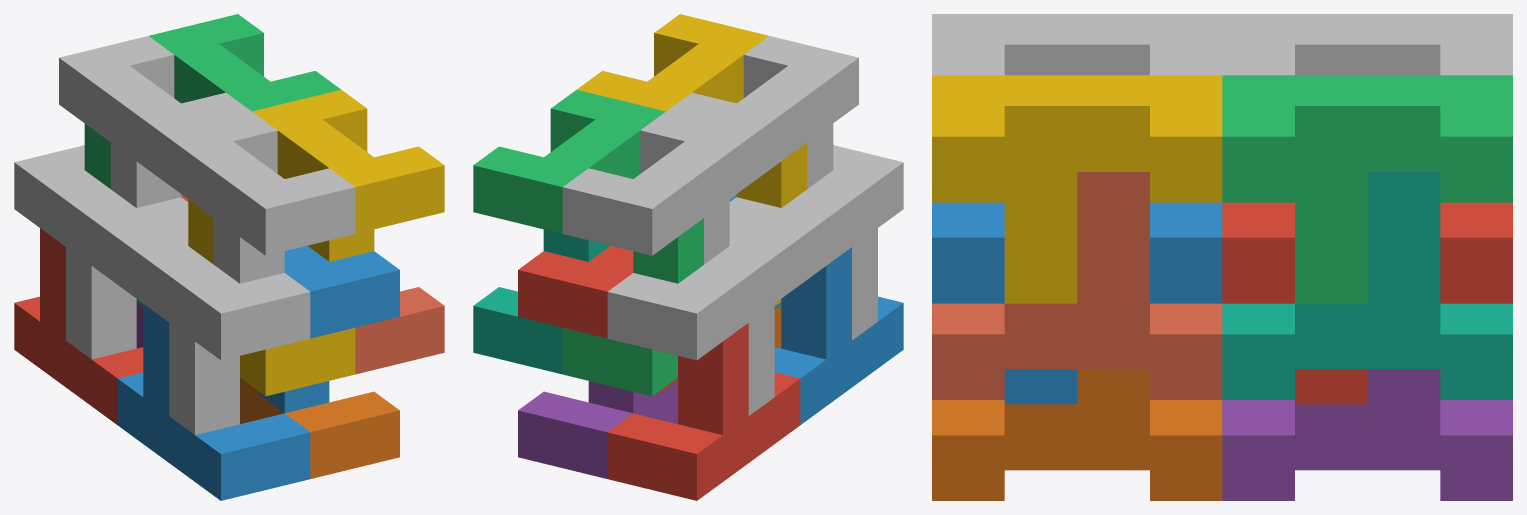
File: tiling.obj
3 views of the same model, side by side, from view 1: azimuth 30°, elevation 25°; view 2: azimuth 150°, elevation 25°; view 3: azimuth 270°, elevation 25° (orthographic). The views are drawn at different scales.
Visible parts, largest first — view 1: copy_2_domain_2, copy_2_domain_4, copy_2_domain_1, copy_2_domain_3, copy_2_domain_8, copy_1_domain_2, copy_2_domain_7, copy_1_domain_1, copy_2_domain_6, copy_1_domain_6, copy_1_domain_4, copy_1_domain_8 (+1 smaller); view 2: copy_2_domain_3, copy_2_domain_1, copy_1_domain_1, copy_2_domain_4, copy_2_domain_7, copy_2_domain_2, copy_1_domain_2, copy_2_domain_8, copy_1_domain_5, copy_1_domain_3, copy_2_domain_5, copy_1_domain_7 (+1 smaller); view 3: copy_2_domain_8, copy_2_domain_7, copy_1_domain_7, copy_1_domain_8, copy_1_domain_5, copy_1_domain_6, copy_2_domain_3, copy_2_domain_4, copy_2_domain_6, copy_2_domain_5.
Part boxes in pixels (x1,y1,x2,y2): copy_2_domain_2: (117, 221, 310, 434); copy_2_domain_4: (162, 111, 355, 283); copy_2_domain_1: (14, 145, 188, 359); copy_2_domain_3: (59, 36, 251, 207); copy_2_domain_8: (252, 89, 444, 261); copy_1_domain_2: (117, 304, 310, 500); copy_2_domain_7: (149, 14, 340, 111); copy_1_domain_1: (14, 228, 143, 424); copy_2_domain_6: (258, 246, 399, 413); copy_1_domain_6: (240, 378, 399, 478); copy_1_domain_4: (188, 199, 355, 396); copy_1_domain_8: (355, 287, 444, 374); copy_2_domain_3: (562, 111, 755, 264); copy_2_domain_1: (607, 221, 800, 415); copy_1_domain_1: (607, 323, 800, 500); copy_2_domain_4: (666, 36, 858, 188); copy_2_domain_7: (473, 89, 665, 233); copy_2_domain_2: (729, 145, 903, 340); copy_1_domain_2: (774, 247, 903, 424); copy_2_domain_8: (577, 14, 768, 111); copy_1_domain_5: (518, 381, 677, 478); copy_1_domain_3: (562, 218, 703, 396); copy_2_domain_5: (518, 246, 677, 393); copy_1_domain_7: (473, 229, 610, 374); copy_2_domain_8: (932, 75, 1222, 303); copy_2_domain_7: (1222, 75, 1512, 303); copy_1_domain_7: (1222, 172, 1512, 399); copy_1_domain_8: (932, 172, 1222, 399); copy_1_domain_5: (1222, 369, 1512, 500); copy_1_domain_6: (932, 369, 1222, 500); copy_2_domain_3: (1222, 14, 1512, 75); copy_2_domain_4: (932, 14, 1222, 75); copy_2_domain_6: (932, 202, 1222, 404); copy_2_domain_5: (1222, 202, 1512, 404).
Size of the model in its own units: 5 by 6 by 8.
